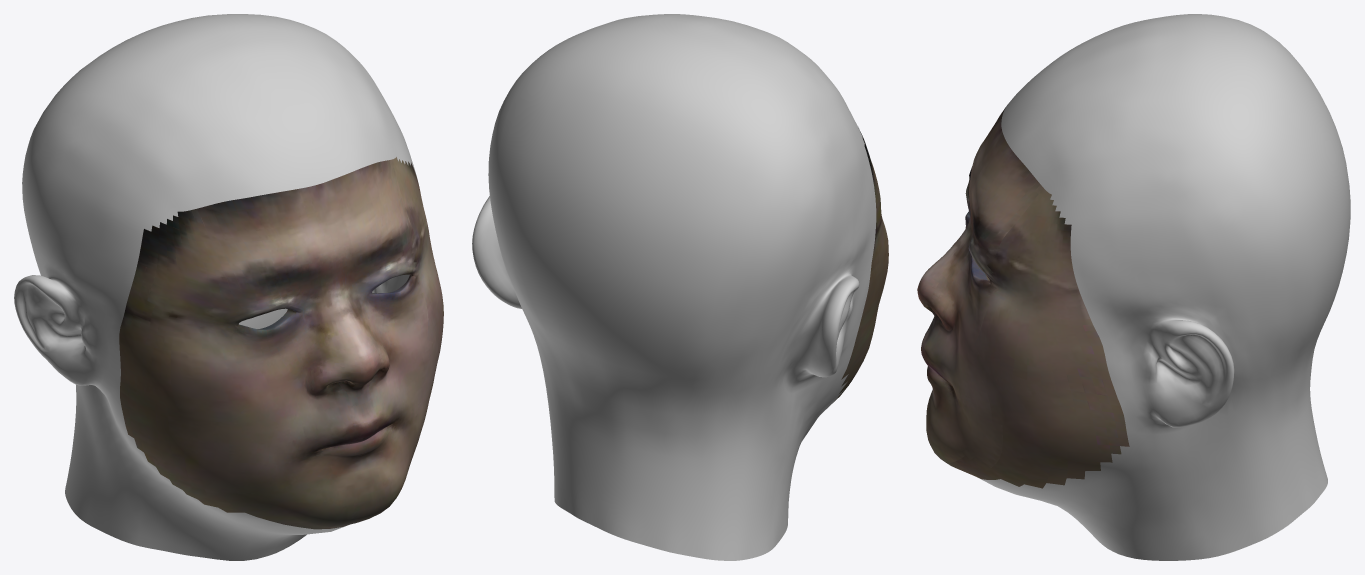
The model's file is neutral.obj.
3 renders of one model, left to right at view 1: azimuth 30°, elevation 25°; view 2: azimuth 150°, elevation 25°; view 3: azimuth 270°, elevation 25°, orthographic.
Size of the model in its own units: 189 by 240 by 192.
Materials: 2 (1 with a texture image).
